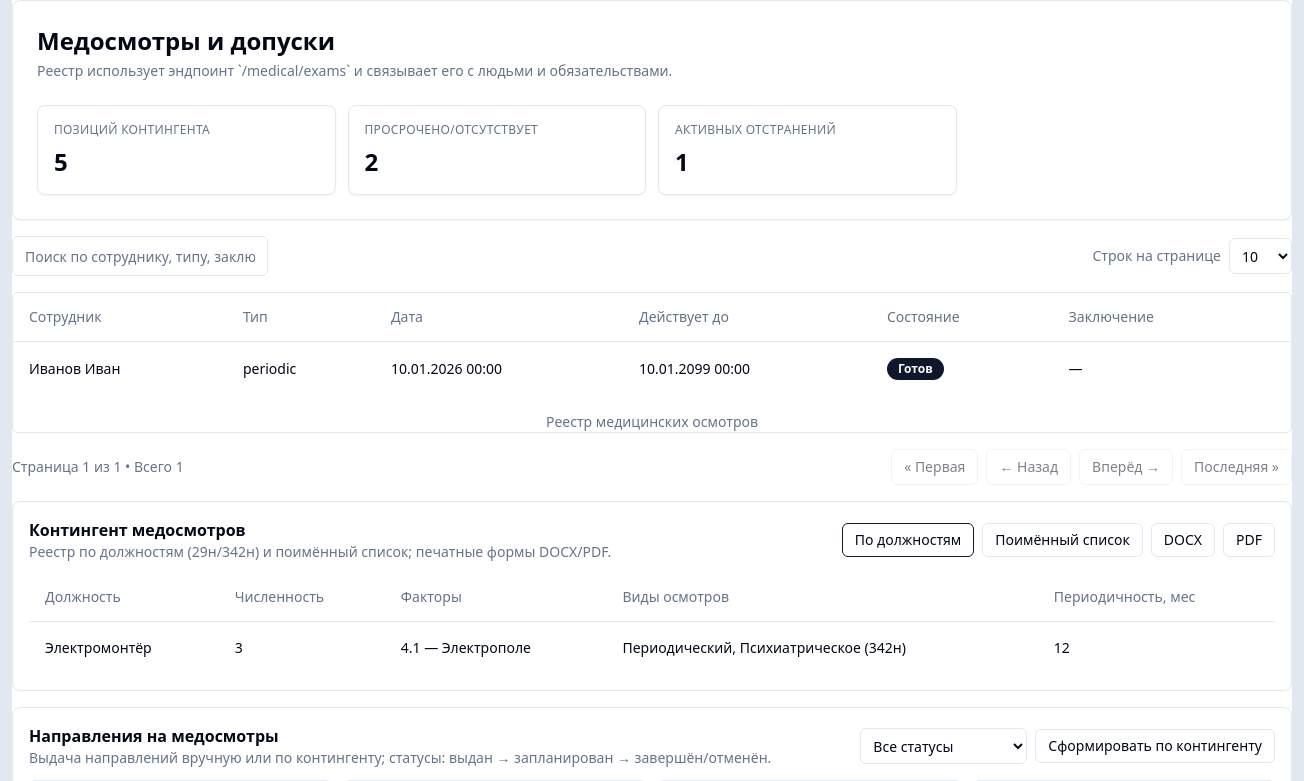
Test: MedicalPage contingent section › switches to the named list view
Click the button "Поимённый список" at (1063, 540), box left=982, top=522, right=1143, bottom=556
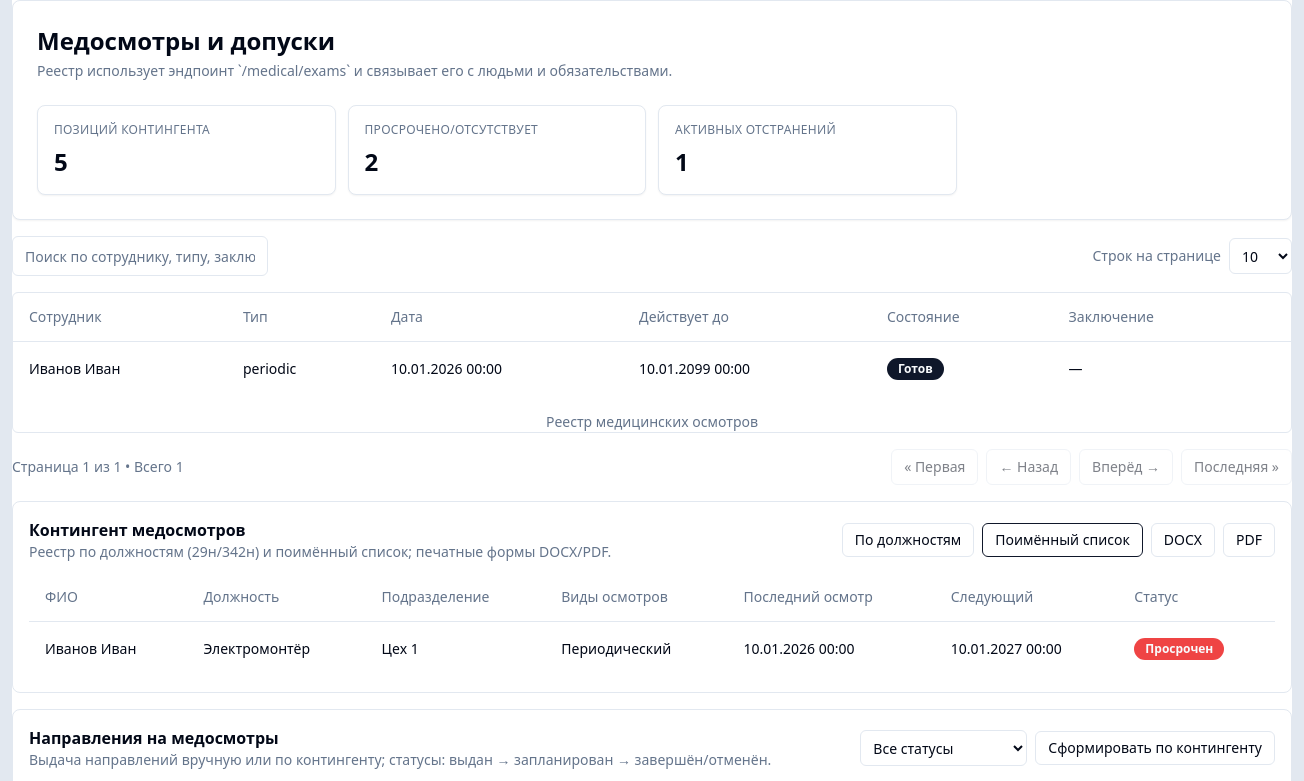
Check: the text "Цех 1" is shown, box left=366, top=622, right=545, bottom=676
Check: the text "Просрочен" is shown, box left=1134, top=638, right=1224, bottom=660
